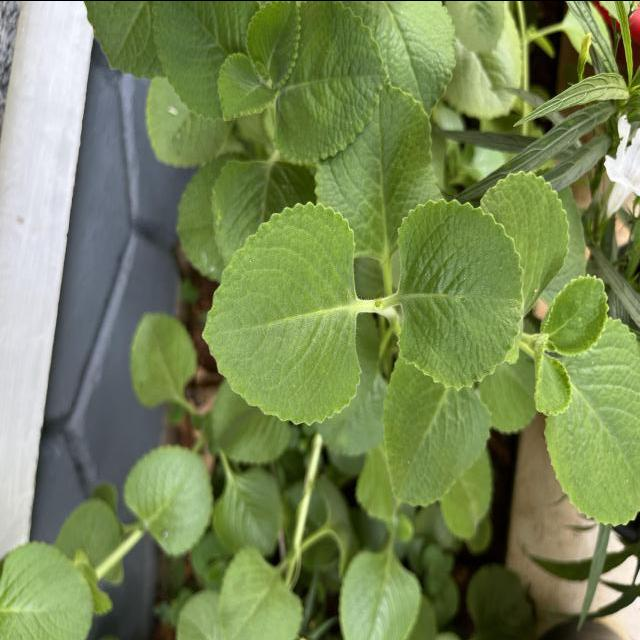Plectranthus barbatus: (199, 199, 363, 430), (396, 198, 524, 392), (543, 322, 640, 526), (272, 0, 389, 166), (380, 357, 493, 508), (122, 442, 214, 558), (336, 547, 421, 640), (218, 547, 303, 640), (129, 310, 199, 410), (211, 466, 283, 556), (540, 273, 610, 357), (243, 0, 302, 89)
